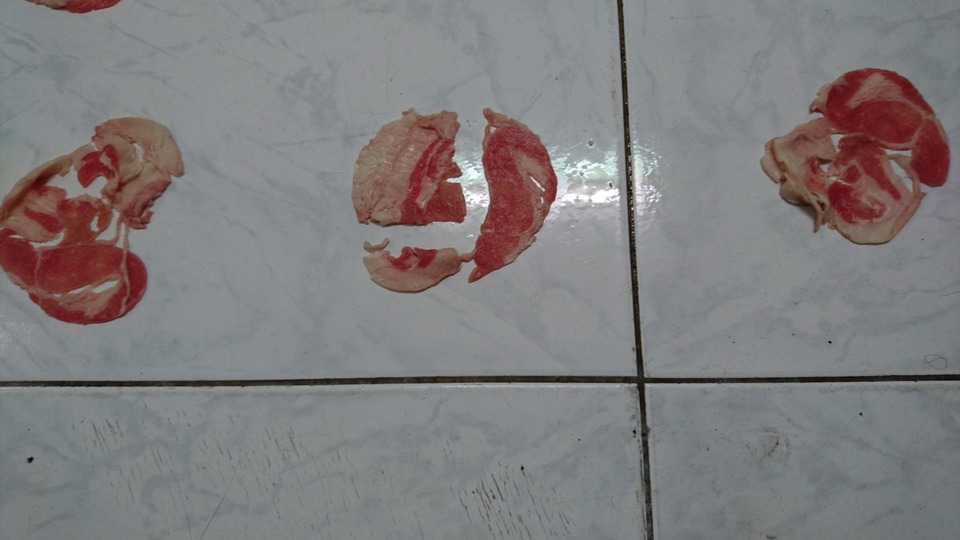restructured meat: (755, 55, 954, 256), (351, 103, 558, 295), (1, 112, 184, 328)
